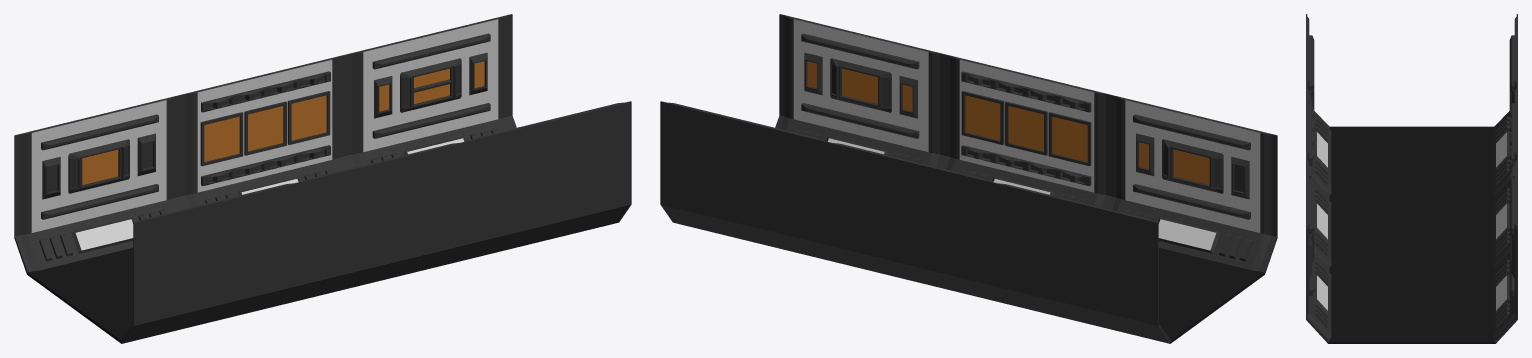
Rendered from 3-delig-recht-stuk.fbx.
3 renders of one model, left to right at view 1: azimuth 30°, elevation 25°; view 2: azimuth 150°, elevation 25°; view 3: azimuth 270°, elevation 25°, orthographic. The views are drawn at different scales.
Visible parts, largest first — view 1: 3_delig_recht_stuk; view 2: 3_delig_recht_stuk; view 3: 3_delig_recht_stuk.
Part boxes in pixels (box(x1,y1,x2,y2)): 3_delig_recht_stuk: box(14, 14, 631, 343); 3_delig_recht_stuk: box(660, 14, 1277, 343); 3_delig_recht_stuk: box(1306, 14, 1517, 343).
Bounding box in the file's own units: 2400 × 600 × 1000.
